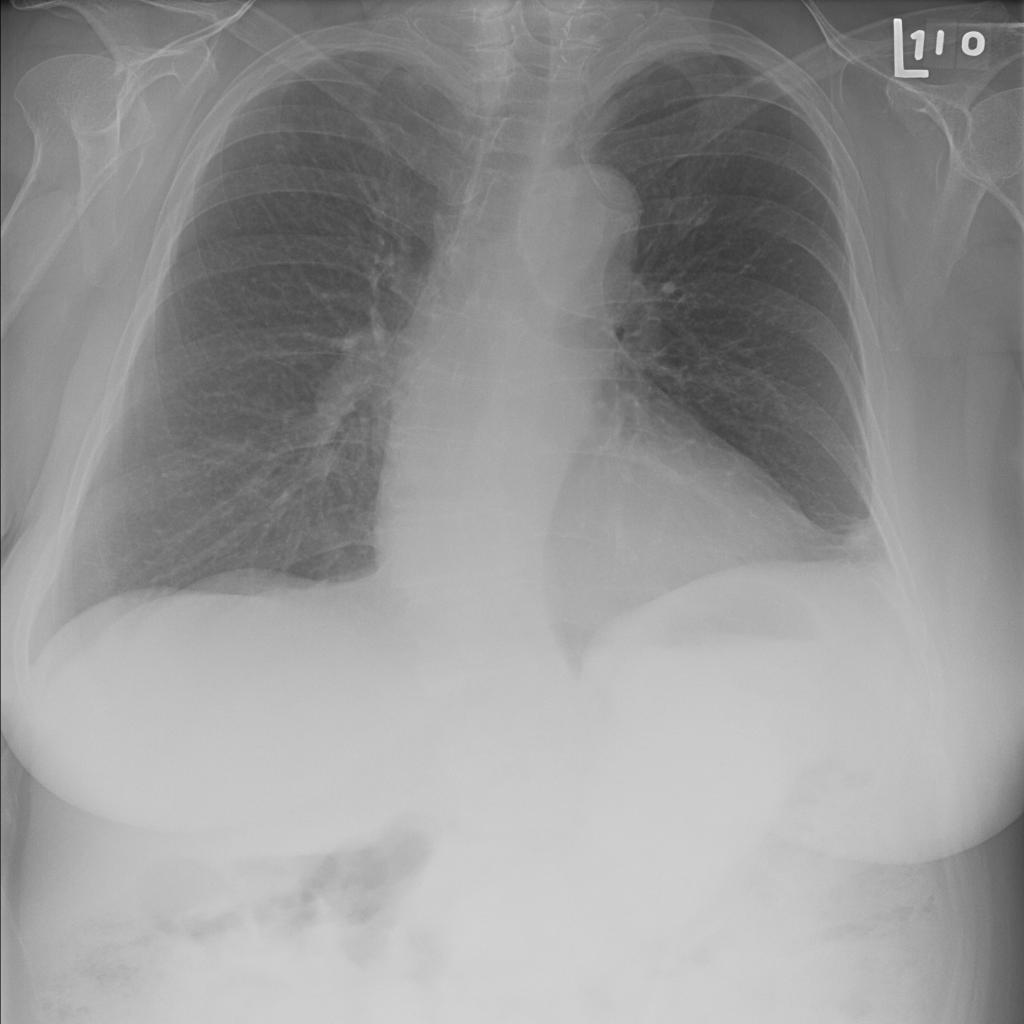Nodule: (198, 21, 246, 53), (134, 187, 180, 217), (85, 178, 126, 210), (489, 259, 529, 286)
